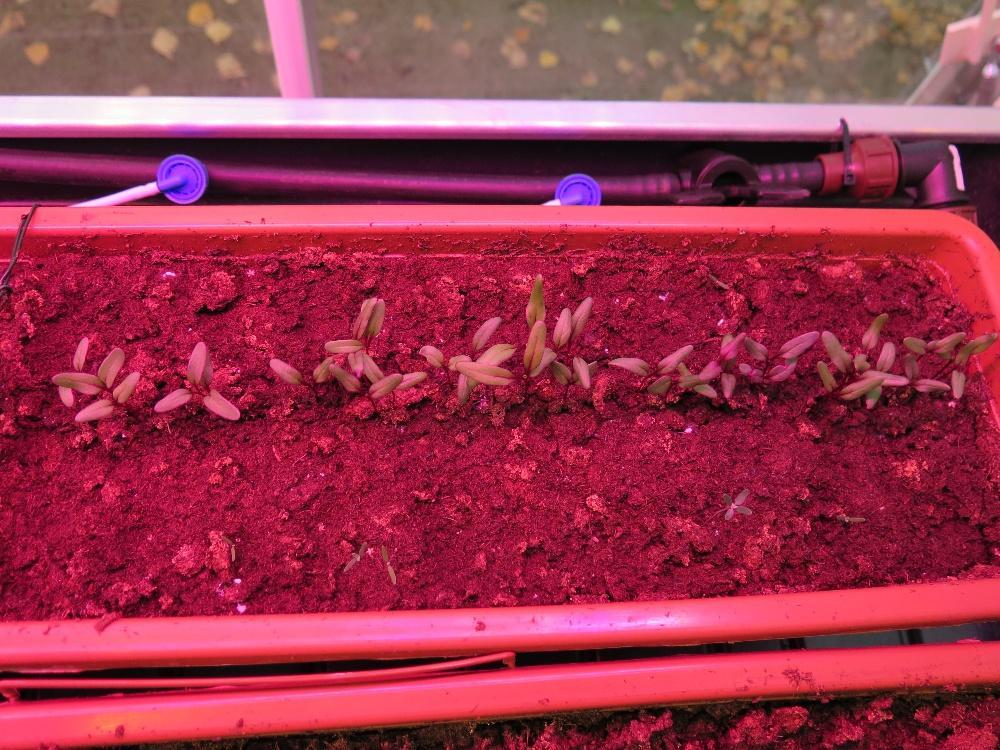weed: (719, 483, 753, 522), (341, 538, 366, 572), (379, 542, 396, 585), (829, 509, 867, 525), (217, 533, 235, 562), (705, 271, 729, 289)
